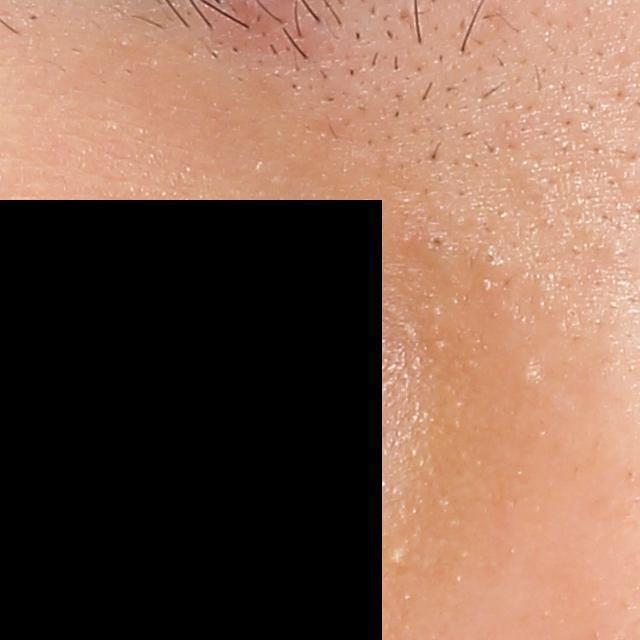comedo: (515, 357, 546, 392)
